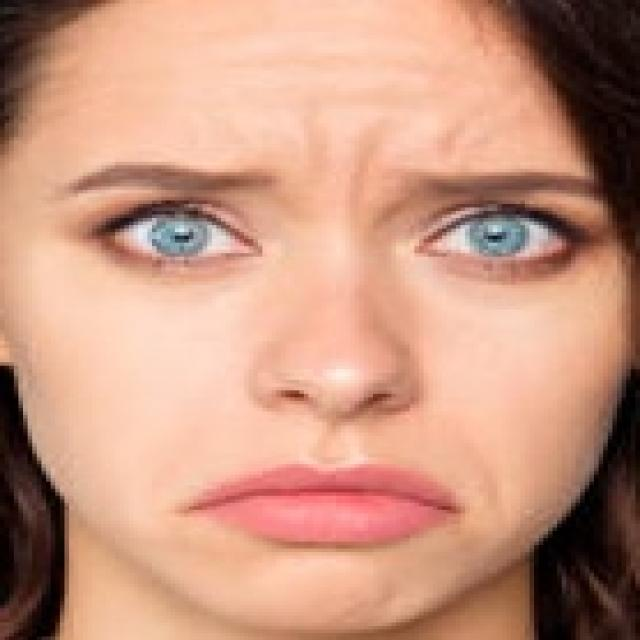Anxiety: (0, 0, 635, 633)
